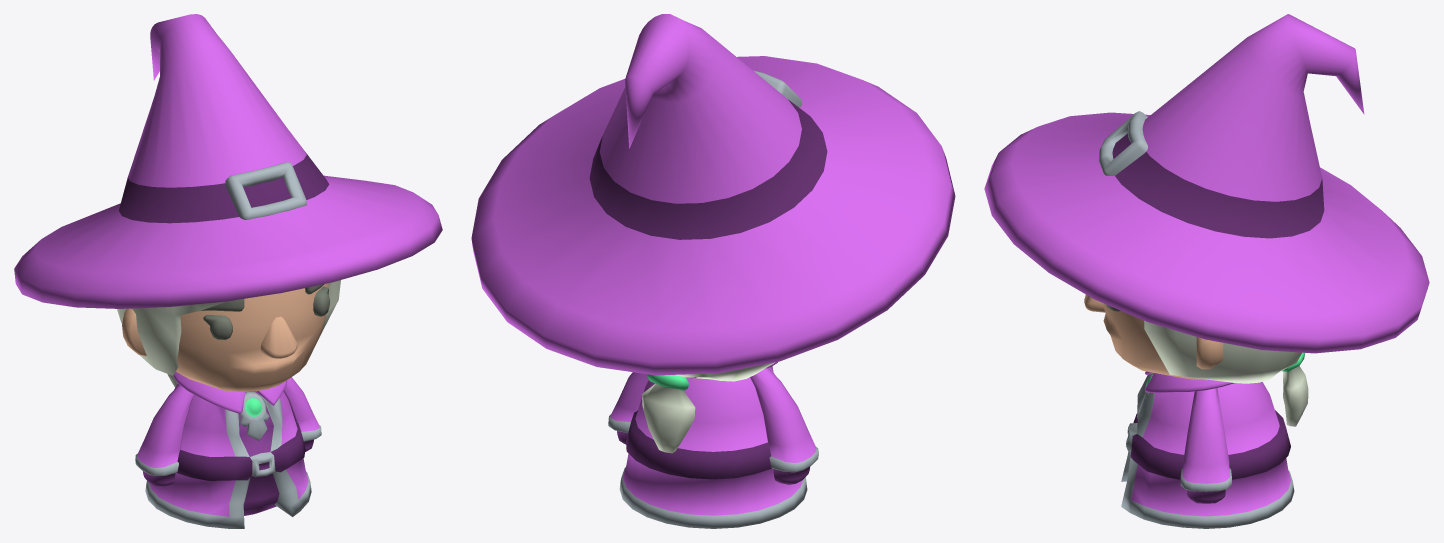
The model's file is mage27.gltf.
The picture shows the model from 3 angles, left to right: view 1: azimuth 30°, elevation 25°; view 2: azimuth 150°, elevation 25°; view 3: azimuth 270°, elevation 25°; orthographic projection. The views are drawn at different scales.
Visible parts, largest first — view 1: character_mageHat, character_mageBody, character_mageHead, character_mageArmRight, character_mageHair, character_mageArnLeft; view 2: character_mageHat, character_mageBody, character_mageArmRight, character_mageHair, character_mageArnLeft; view 3: character_mageHat, character_mageBody, character_mageHair, character_mageArnLeft, character_mageHead.
Part boxes in pixels (left/top/right/bottom): character_mageHat: left=14, top=14, right=442, bottom=308; character_mageBody: left=145, top=372, right=311, bottom=528; character_mageHead: left=122, top=283, right=329, bottom=391; character_mageArmRight: left=135, top=384, right=194, bottom=487; character_mageHair: left=117, top=280, right=340, bottom=387; character_mageArnLeft: left=284, top=377, right=321, bottom=451; character_mageHat: left=471, top=14, right=955, bottom=375; character_mageBody: left=619, top=362, right=807, bottom=528; character_mageArmRight: left=750, top=368, right=818, bottom=484; character_mageHair: left=641, top=362, right=774, bottom=453; character_mageArnLeft: left=608, top=372, right=648, bottom=444; character_mageHat: left=984, top=14, right=1429, bottom=353; character_mageBody: left=1121, top=371, right=1294, bottom=528; character_mageHair: left=1144, top=320, right=1308, bottom=426; character_mageArnLeft: left=1180, top=388, right=1231, bottom=503; character_mageHead: left=1084, top=294, right=1223, bottom=380.
Size of the model in its own units: 2.1 by 2.44 by 2.05.
